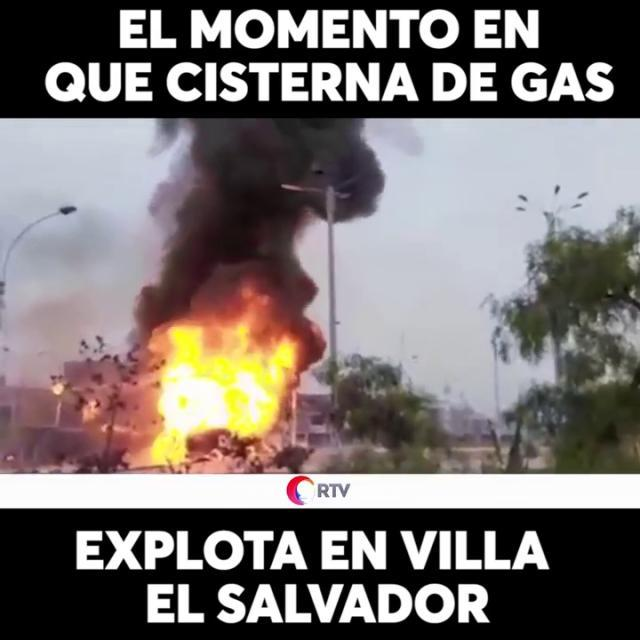Fire: (128, 300, 306, 464)
Smoke: (122, 118, 393, 336)
